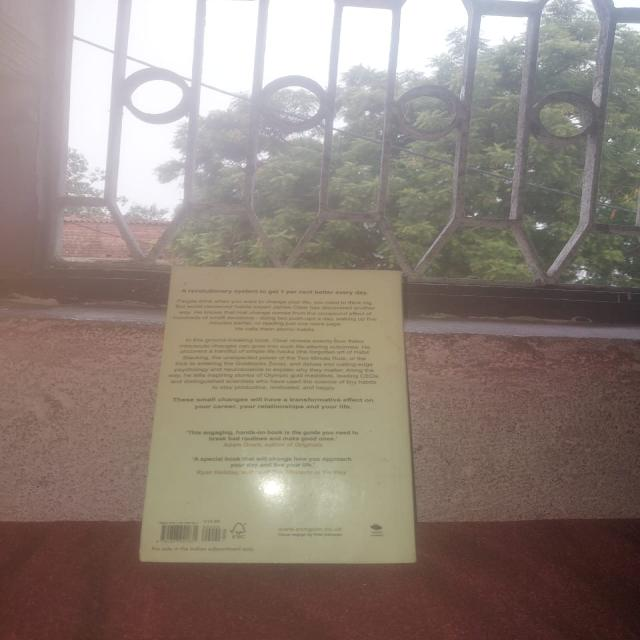Book: (144, 263, 425, 565)
